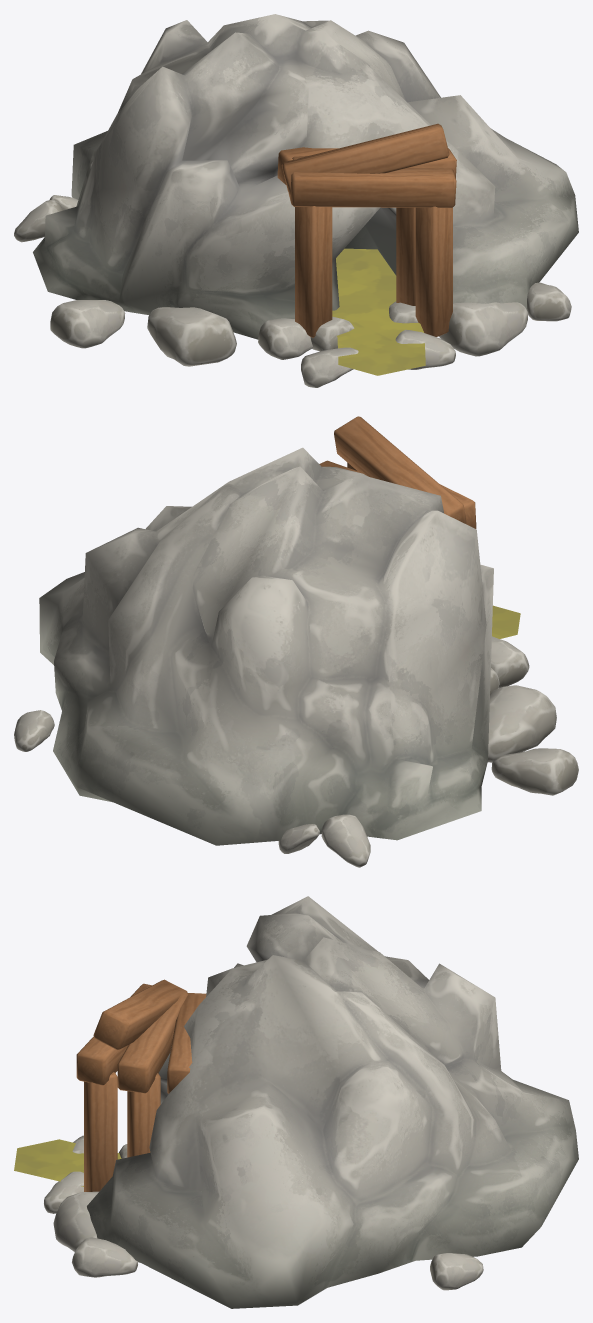
The model's file is Rock_Factory.fbx.
3 renders of one model, top to bottom at view 1: azimuth 30°, elevation 25°; view 2: azimuth 150°, elevation 25°; view 3: azimuth 270°, elevation 25°, orthographic. The views are drawn at different scales.
Visible parts, largest first — view 1: Rock_Factory; view 2: Rock_Factory; view 3: Rock_Factory.
Boxes of the visible parts, <box> form: Rock_Factory: <box>14,14,578,387</box>; Rock_Factory: <box>14,416,578,867</box>; Rock_Factory: <box>14,896,578,1308</box>.
Bounding box in the file's own units: 200 × 103 × 196.
